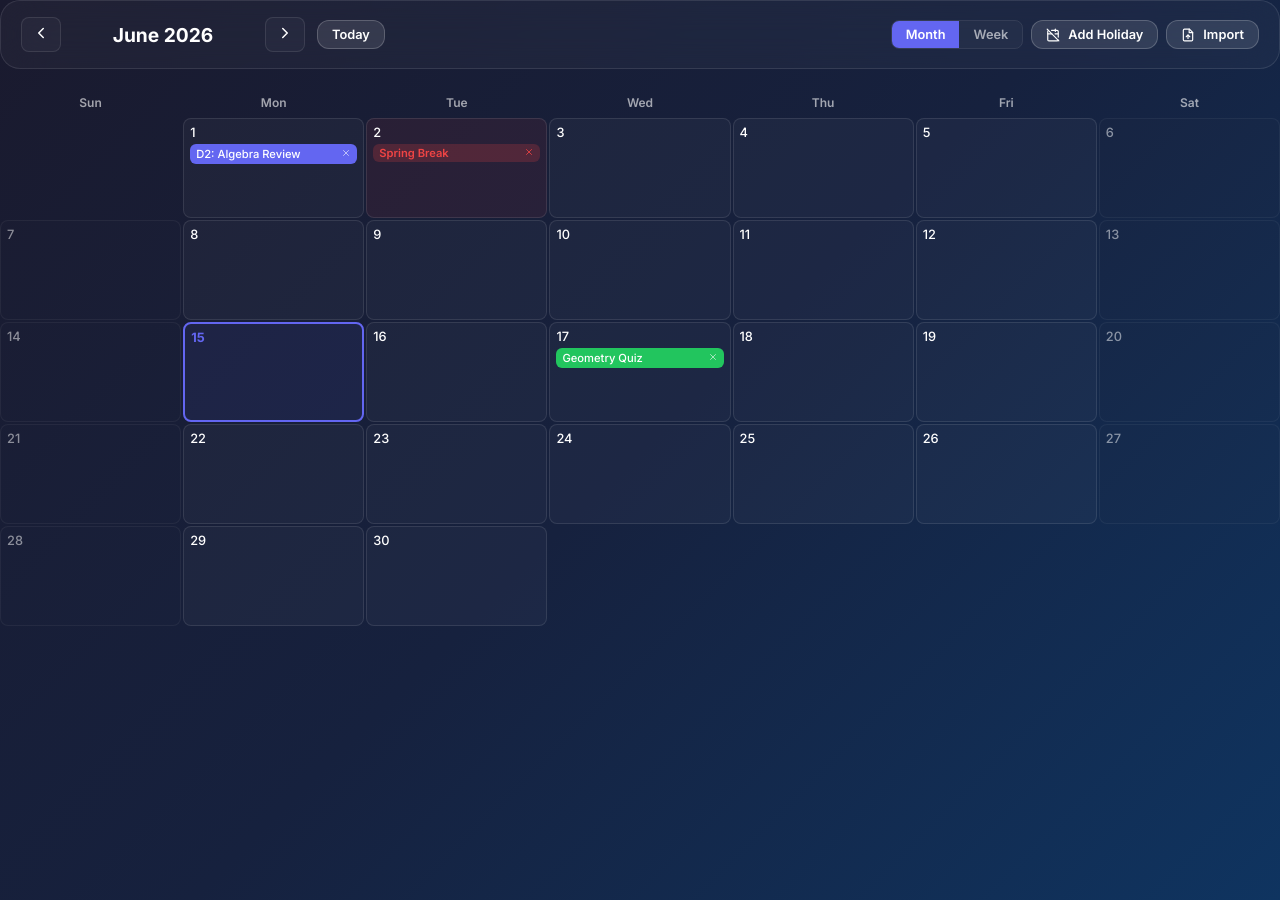
PlannerCalendar branch mounts (planner-calendar/* split) › mounts week view with lesson card, unit, and Edit/Remove actions
Expected: the text "D2: Algebra Review" is shown, x1=196 y1=147 x2=301 y2=161
Click the button "Week" at {"x": 991, "y": 34}, box x1=960 y1=21 x2=1022 y2=48
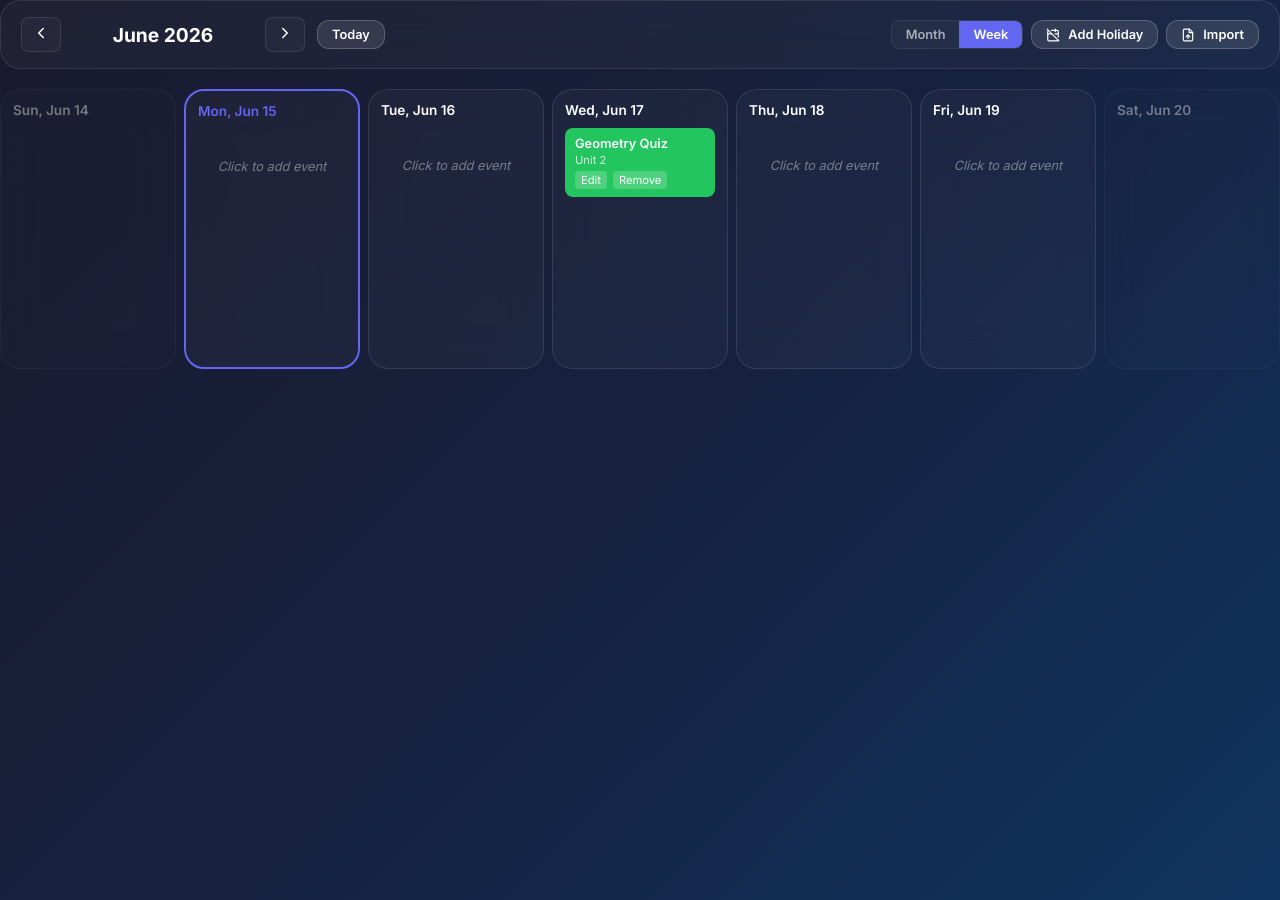
Expected: the text "Unit 2" is shown, x1=575 y1=153 x2=606 y2=167
Expected: the button "Edit" is shown, x1=575 y1=171 x2=607 y2=189
Expected: the button "Remove" is shown, x1=613 y1=171 x2=668 y2=189
